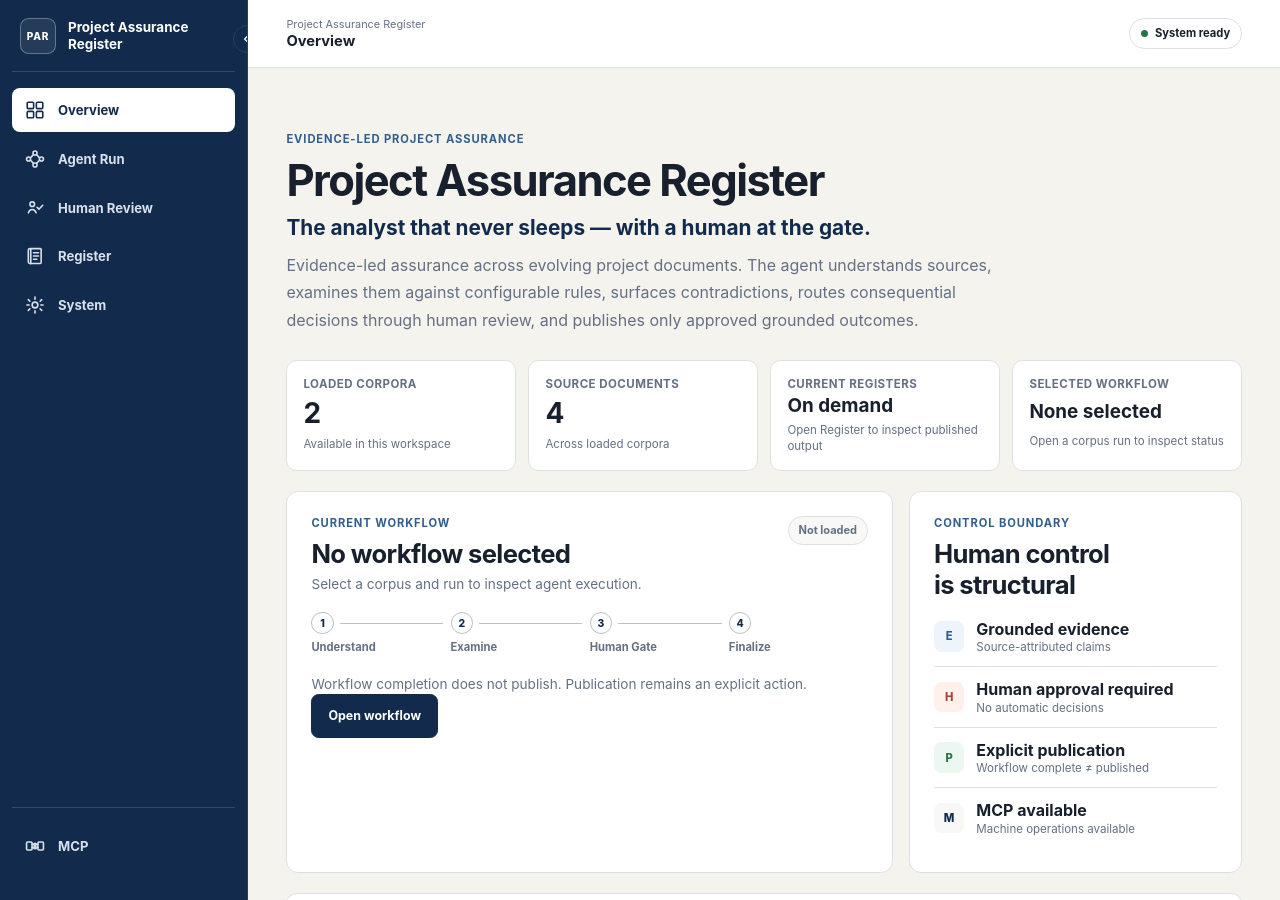
Test case: App › renders corpus options from API data and distinguishes duplicate names
The width and height of the screenshot is (1280, 900).
Click the button "Agent Run" at (124, 159), box [12,137,235,181]
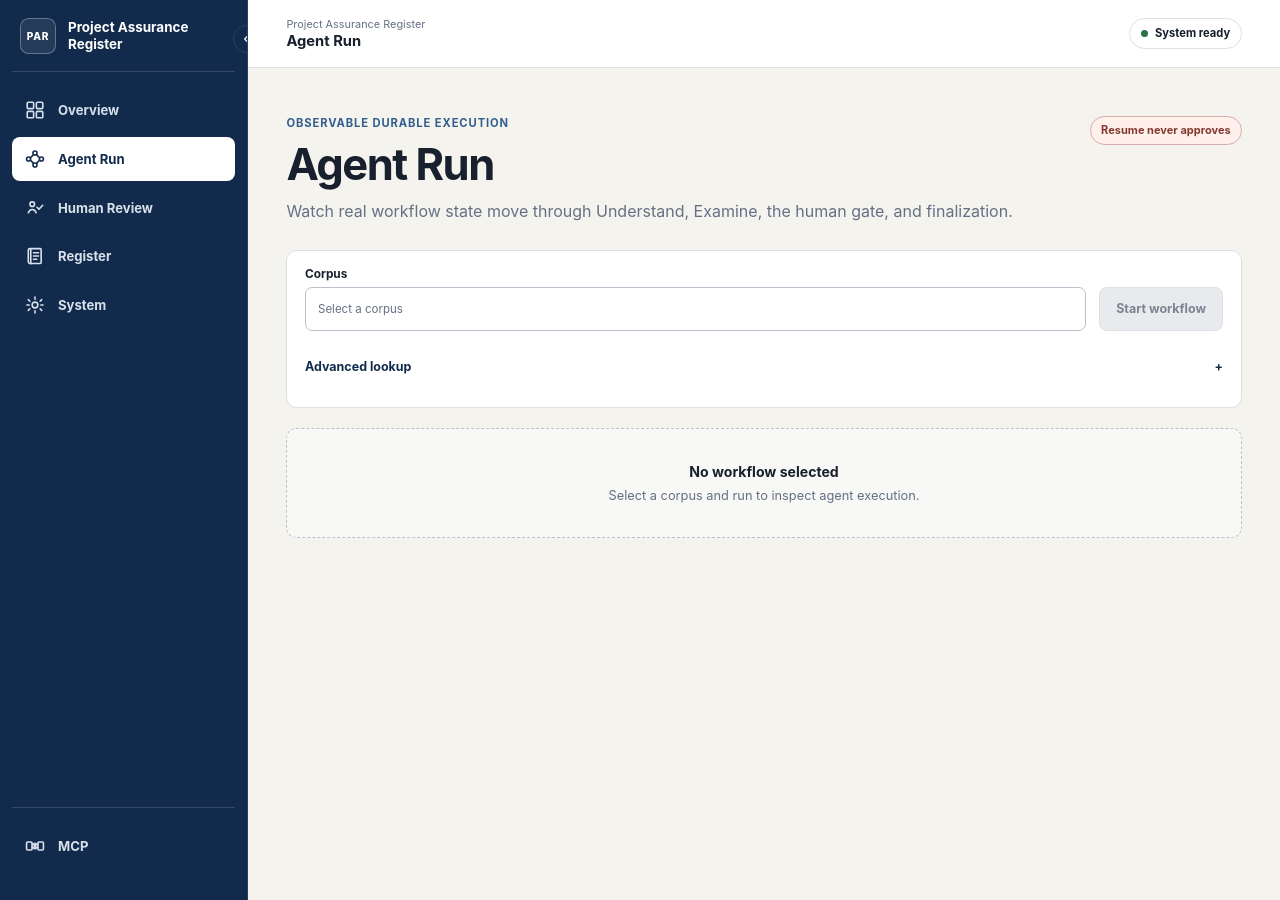
Click the button labelled "Select a corpus" at (360, 309), box [305,287,1086,331]
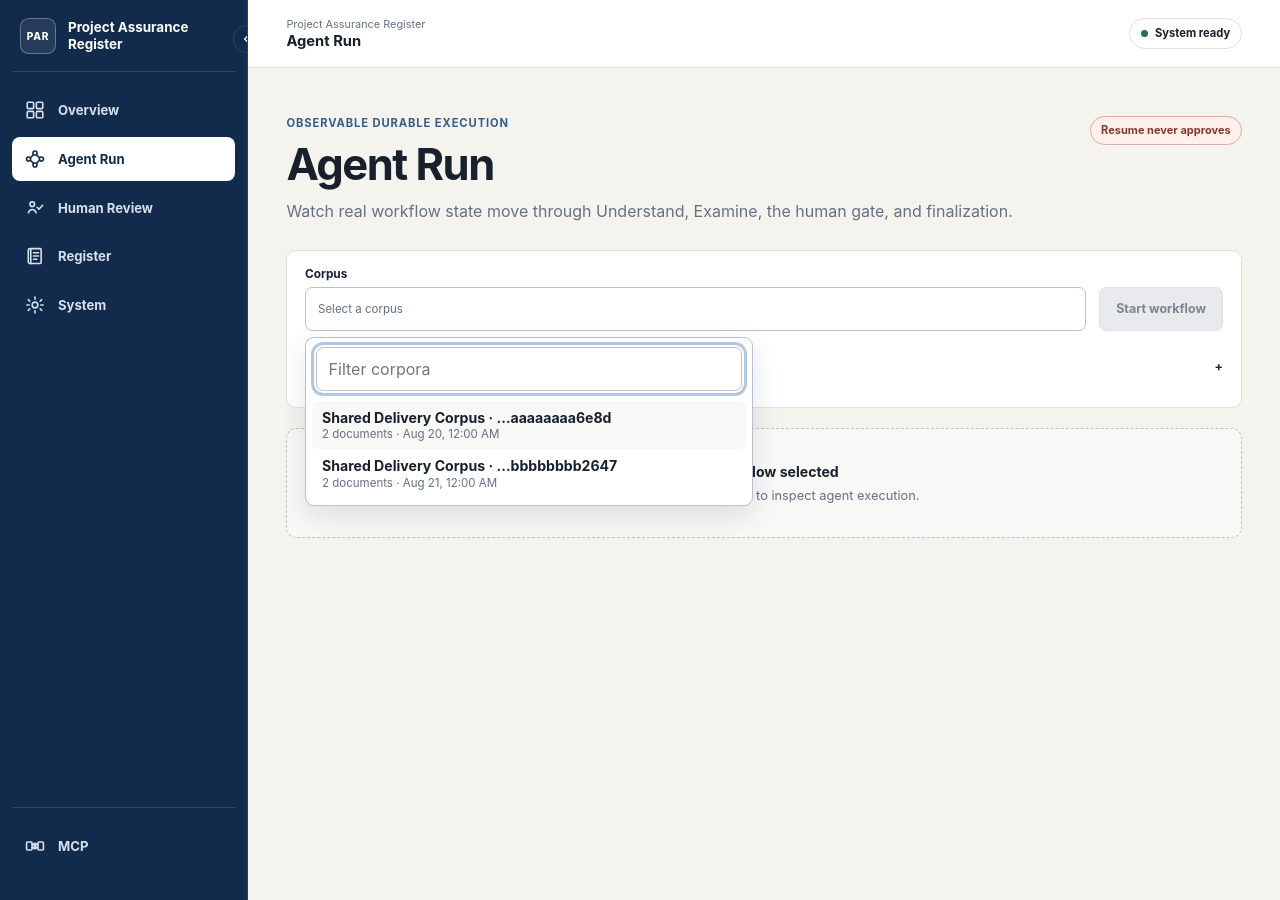
Check: the option "Shared Delivery Corpus · …aaaaaaaa6e8d" is shown, box [312,401,746,449]
Check: the option "Shared Delivery Corpus · …bbbbbbbb2647" is shown, box [312,449,746,498]
